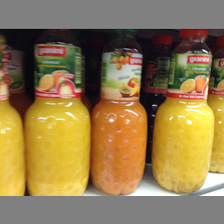juice: (23, 29, 91, 195), (150, 28, 215, 192), (91, 30, 148, 193)
